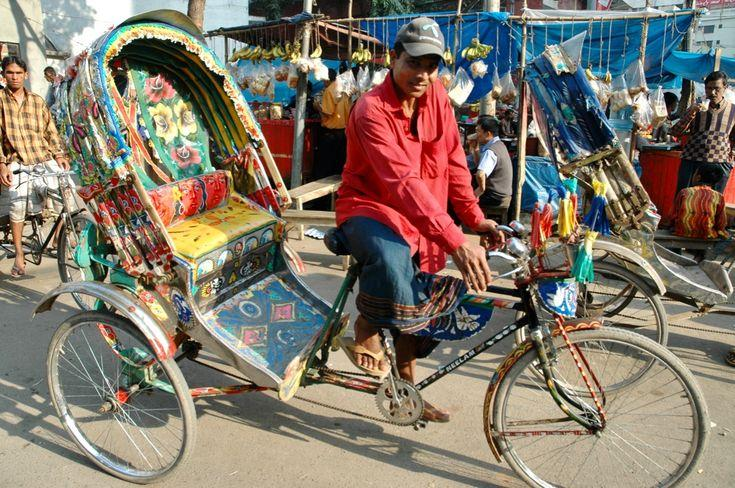Rickshaw: (36, 11, 709, 485), (526, 33, 732, 311), (14, 168, 93, 281)
